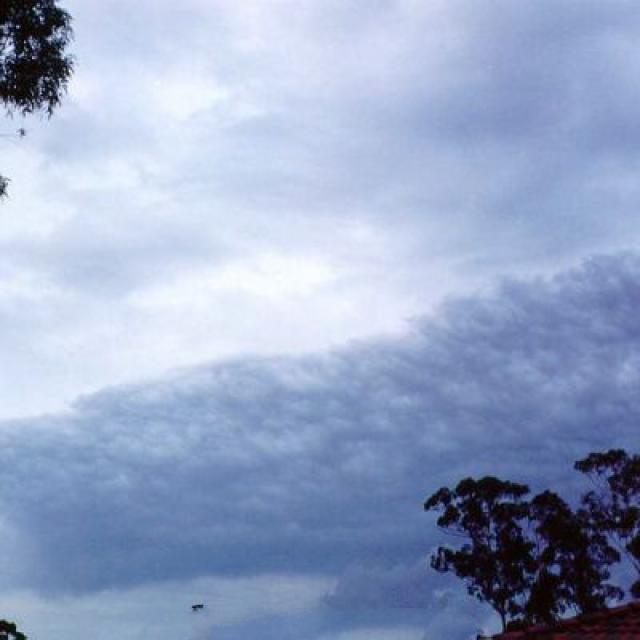Sc: (1, 108, 640, 449)
